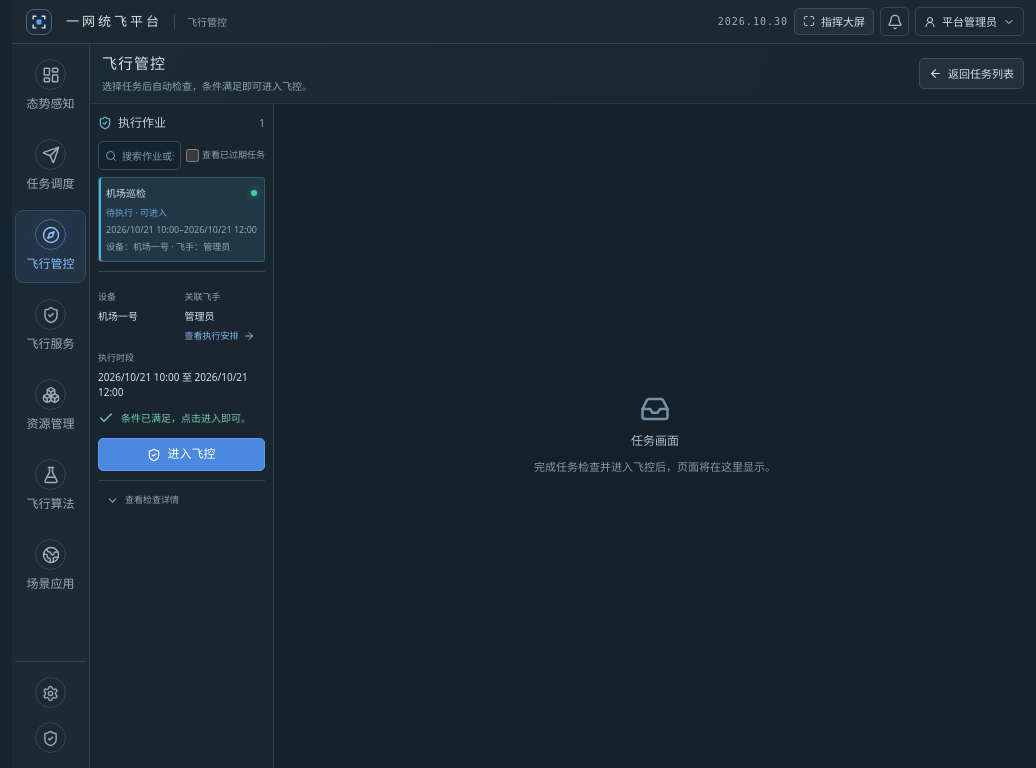
application authentication integration › a native logout also ends the local platform session without requiring another child acknowledgement
Check: the button with aria-label "机场巡检 · 待执行" is shown, box [98, 177, 265, 262]
What coordinates should you click on to do the following:
click the button "进入飞控"
I would click on:
 (182, 454)
Its box is [98, 438, 265, 471].
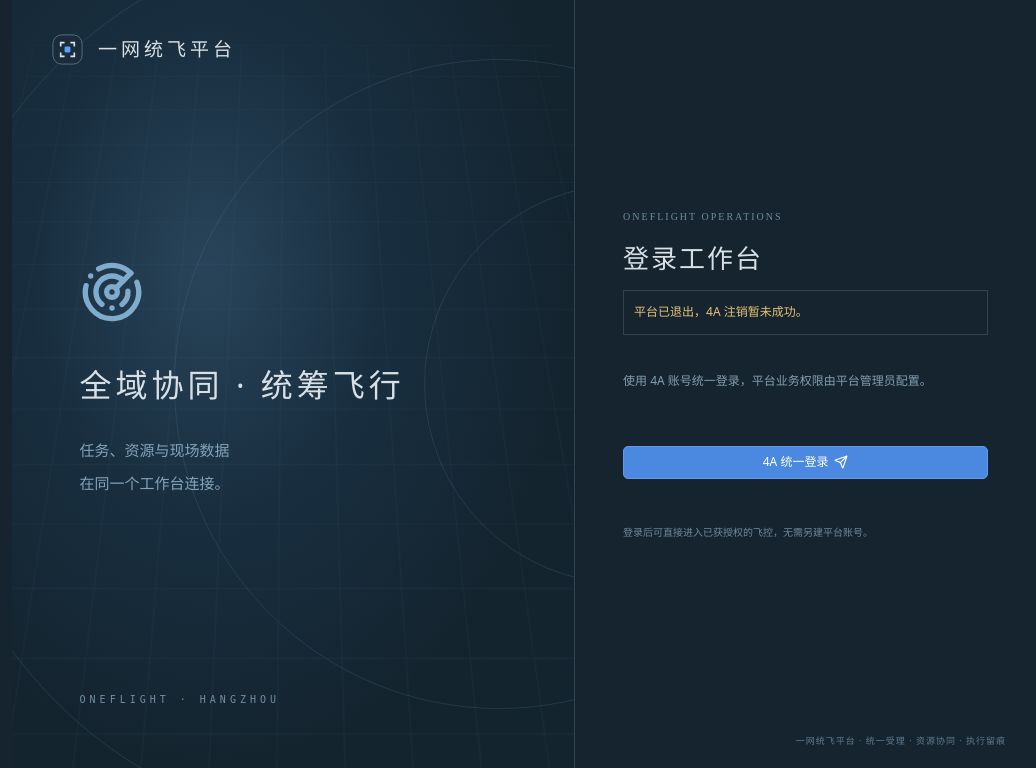
Check: the link "4A 统一登录" is shown, box [623, 446, 988, 479]
